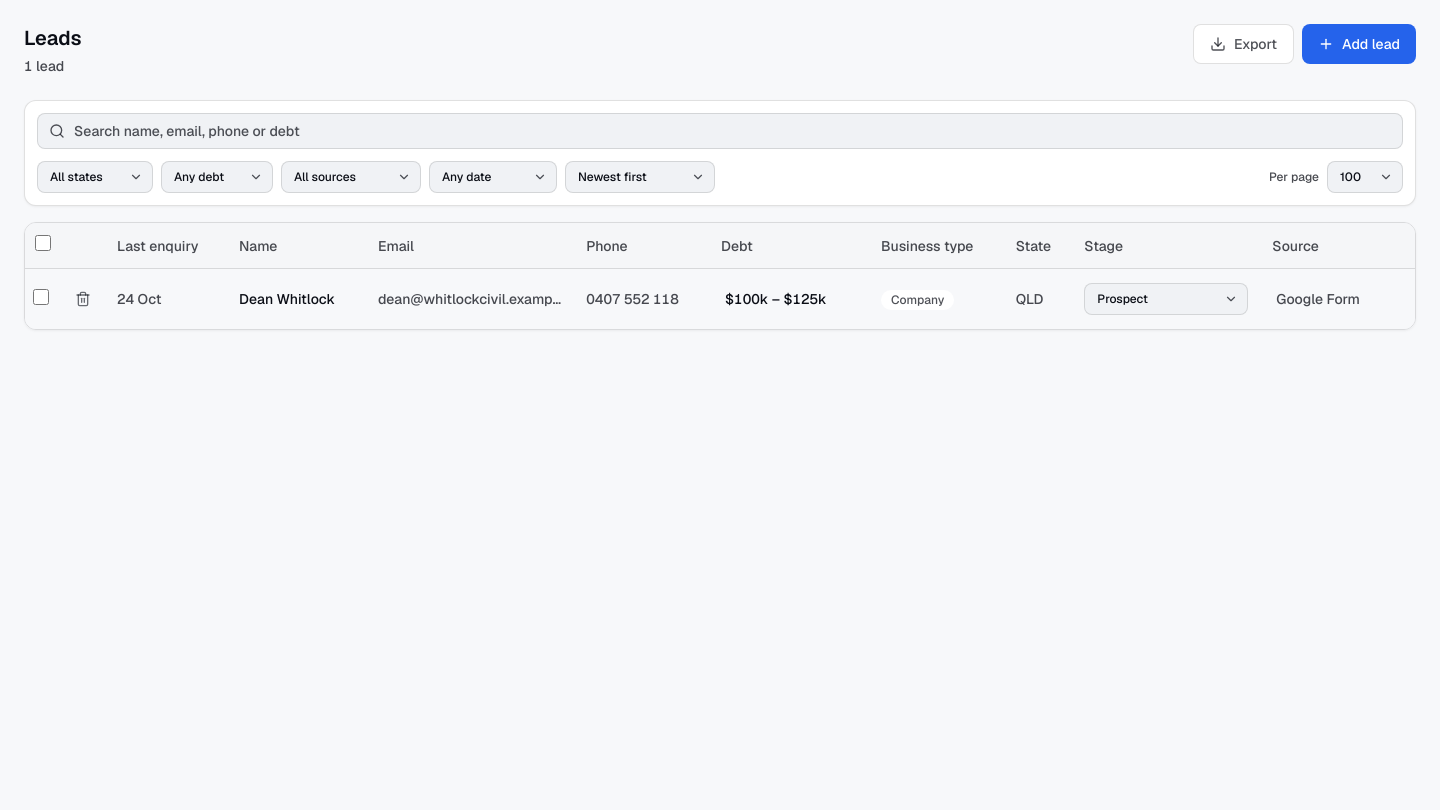
Test: ConvertToClientDialog › names the person and says what will happen
Select "Client" in the dropdown named "Stage for Dean Whitlock" at (1166, 299), box [1084,283,1248,315]
(page scrolled)
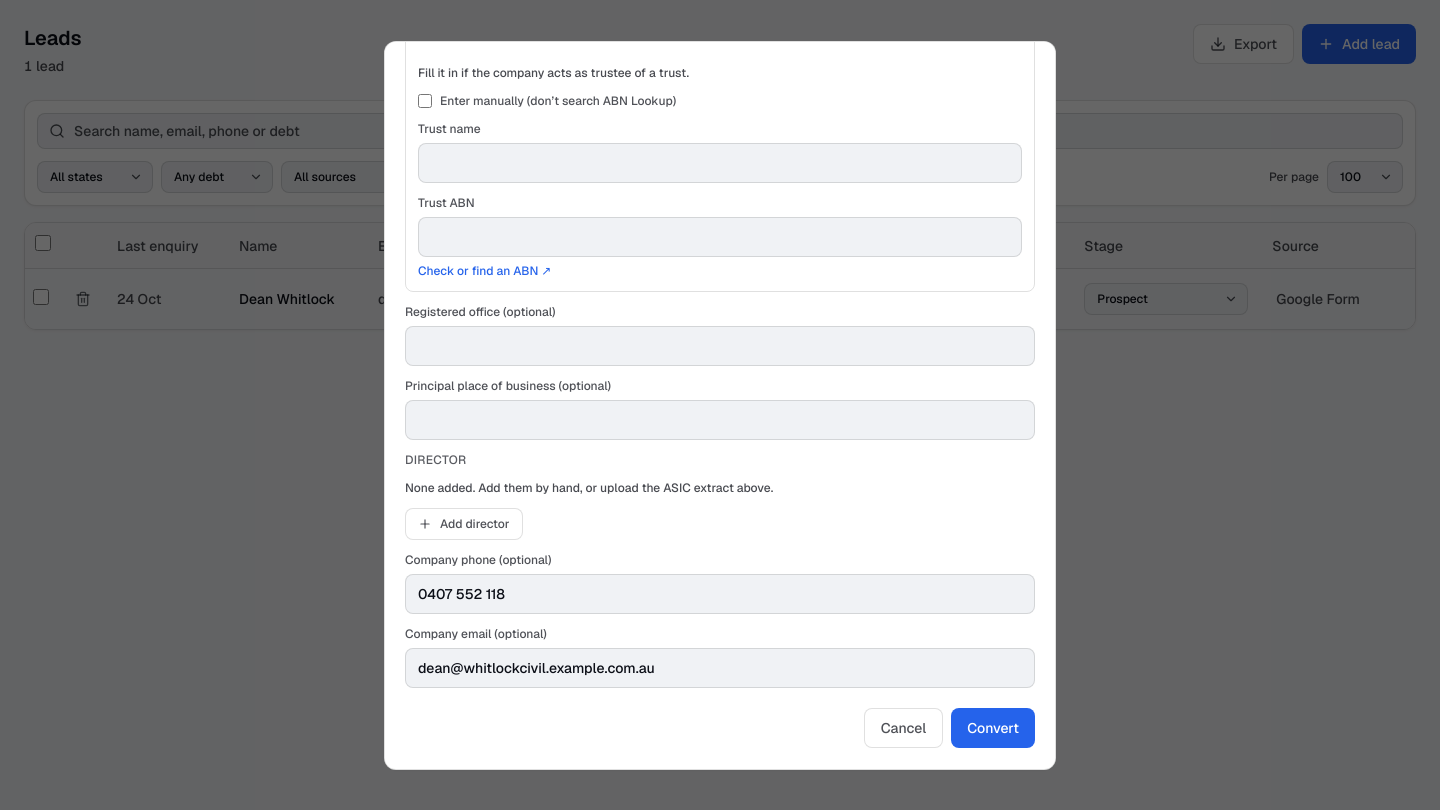
Result: the button "Convert" is shown at [951,708,1035,748]
Result: the button "Cancel" is shown at [864,708,943,748]
